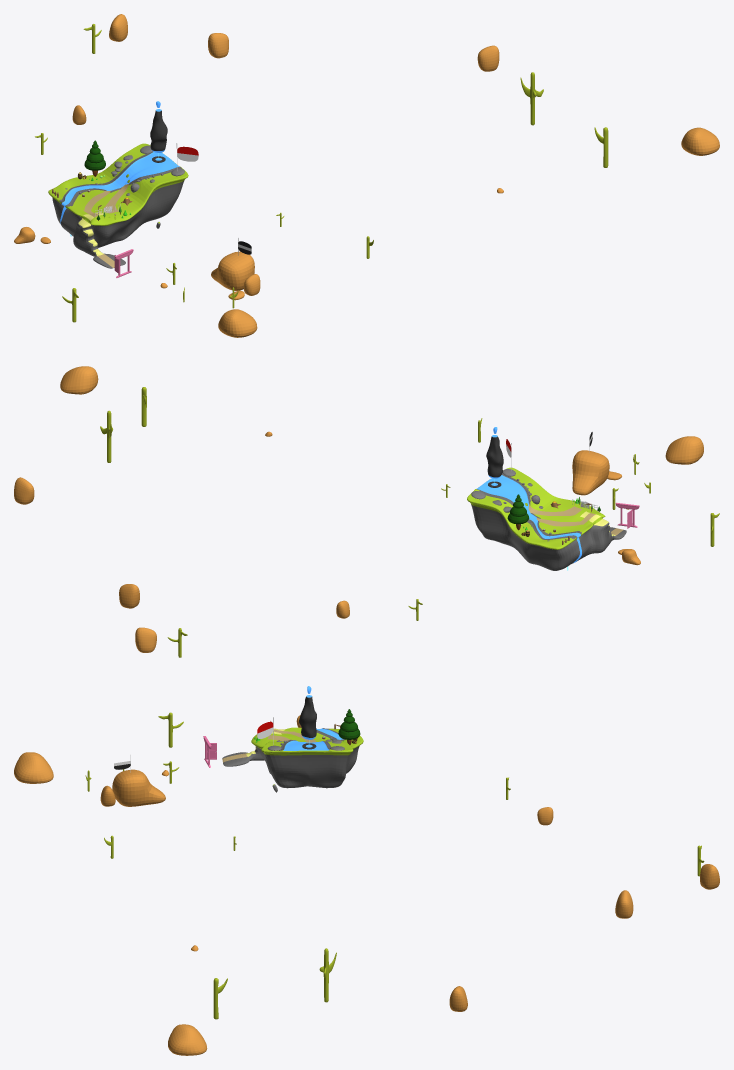
The model's file is fountain.fbx.
3 renders of one model, top to bottom at view 1: azimuth 30°, elevation 25°; view 2: azimuth 150°, elevation 25°; view 3: azimuth 270°, elevation 25°, orthographic. The views are drawn at different scales.
Visible parts, largest first — view 1: village_02_fountain; view 2: village_02_fountain; view 3: village_02_fountain.
Part boxes in pixels (x1=…): village_02_fountain: x1=14, y1=14, x2=719, y2=337; village_02_fountain: x1=14, y1=366, x2=719, y2=657; village_02_fountain: x1=14, y1=686, x2=719, y2=1055.
Bounding box in the file's own units: 3045 × 594 × 2793.
